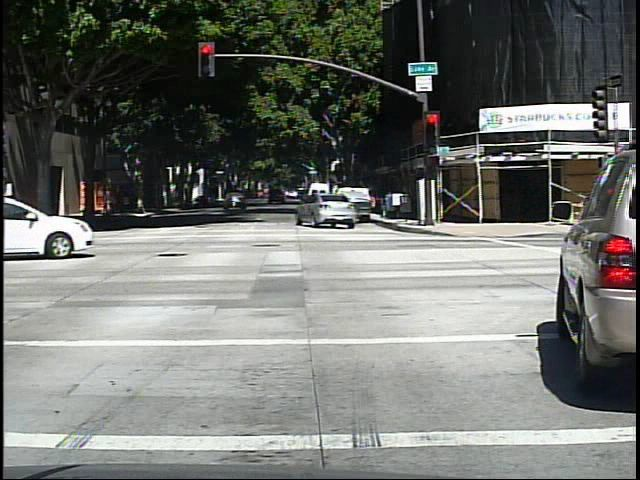person: (99, 188, 111, 216)
